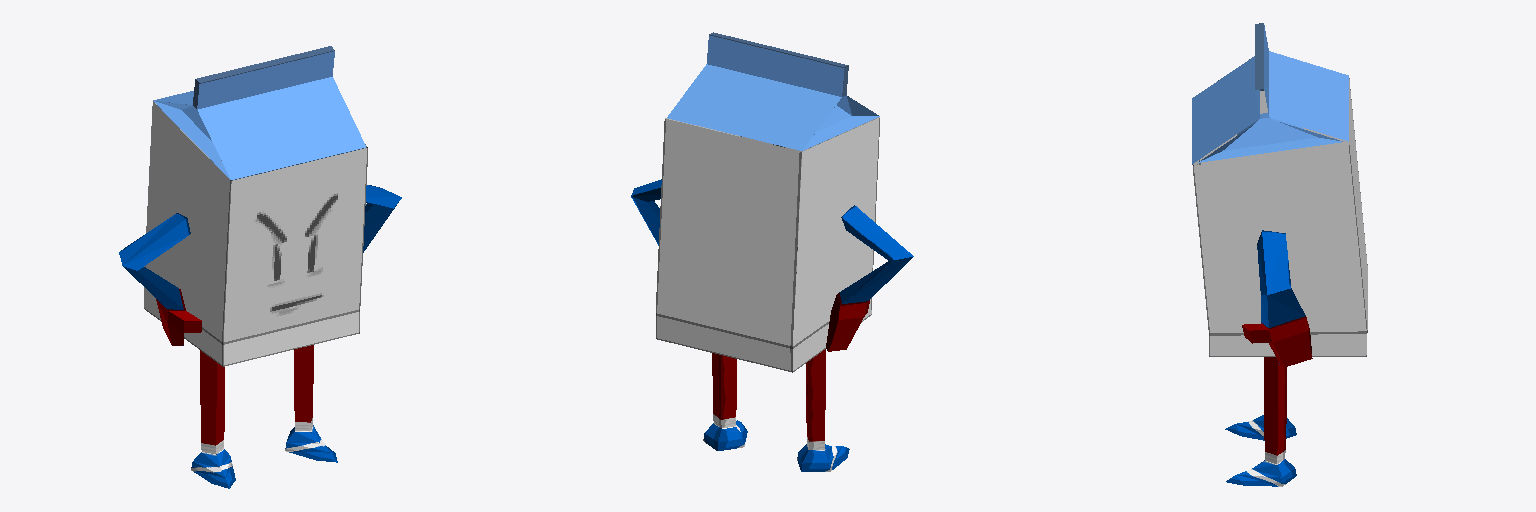
3 views of the same model, side by side, from view 1: azimuth 30°, elevation 25°; view 2: azimuth 150°, elevation 25°; view 3: azimuth 270°, elevation 25° (orthographic).
Parts seen in each view (by area): view 1: sdef:body, sdef:leg, sdef:hand; view 2: sdef:body, sdef:leg, sdef:hand; view 3: sdef:body, sdef:hand, sdef:leg.
Boxes of the visible parts, <box> form: sdef:body: <box>144,46,367,366</box>; sdef:leg: <box>191,345,337,488</box>; sdef:hand: <box>119,185,401,345</box>; sdef:body: <box>656,32,879,372</box>; sdef:leg: <box>703,349,849,471</box>; sdef:hand: <box>631,179,913,351</box>; sdef:body: <box>1192,23,1367,356</box>; sdef:hand: <box>1242,230,1312,366</box>; sdef:leg: <box>1225,357,1296,486</box>.
Size of the model in its own units: 95.78 by 131 by 51.92.
Materials: 3 (3 with a texture image).